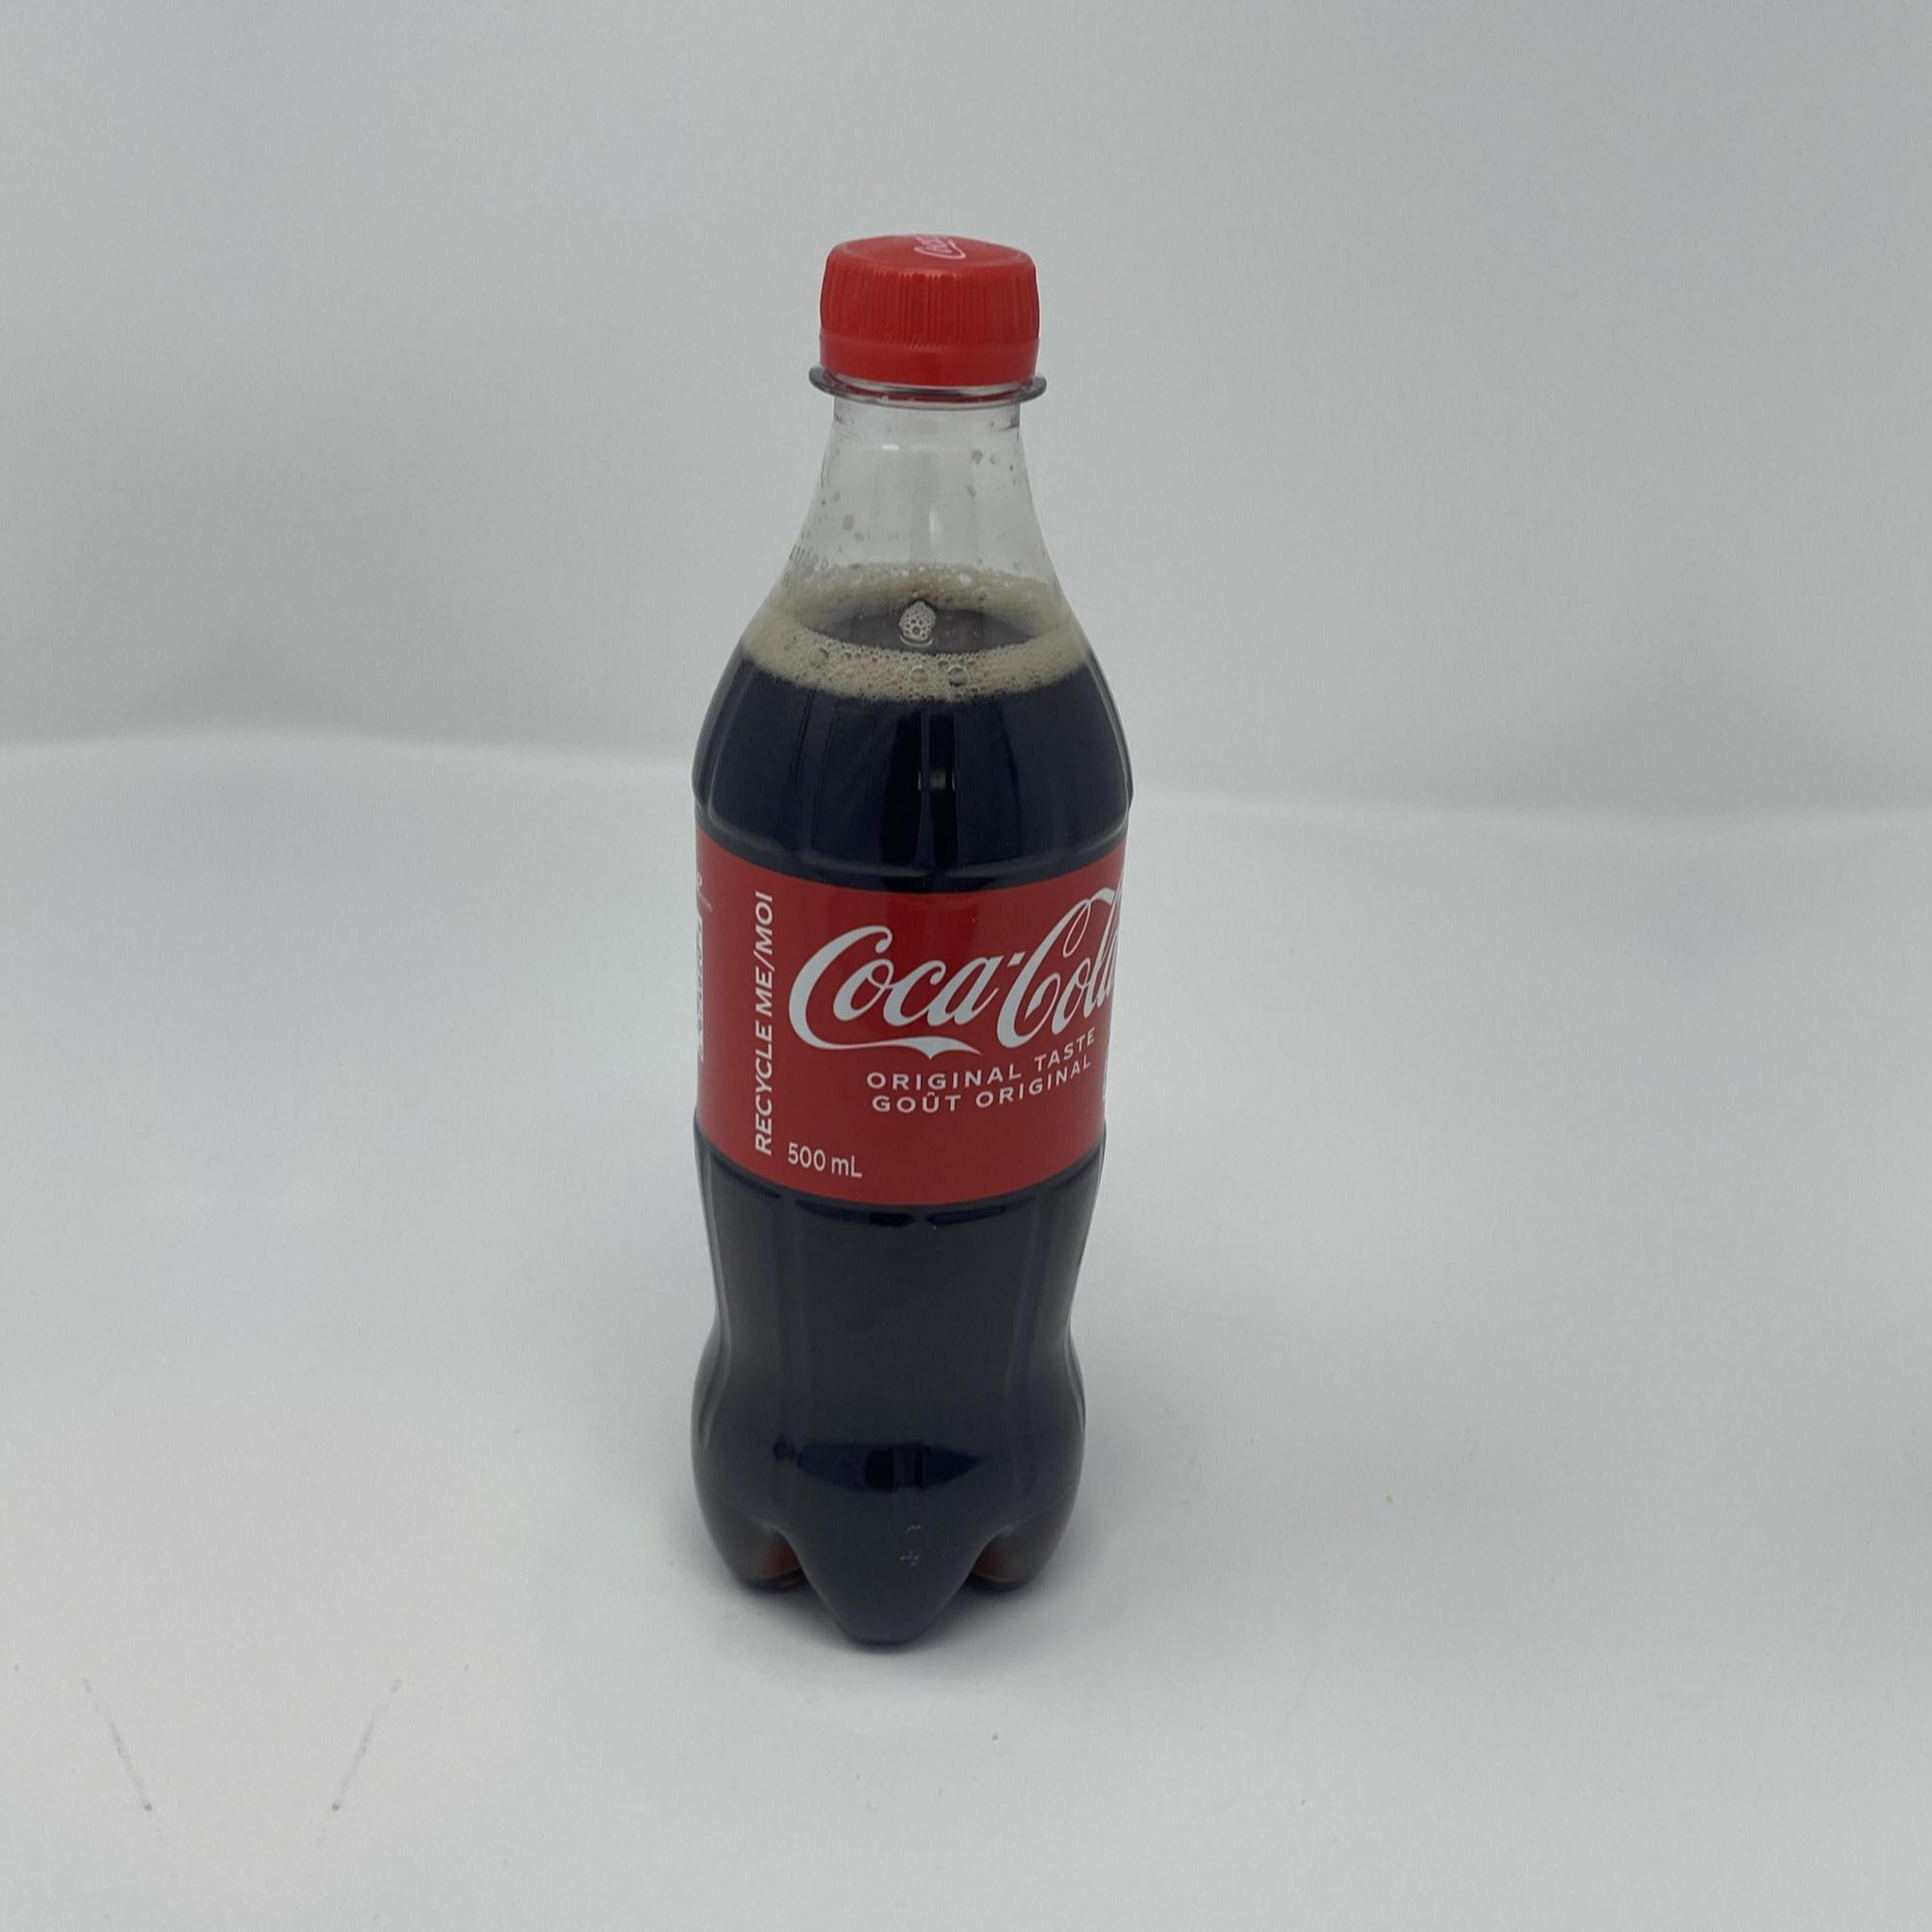PET: (688, 230, 1132, 1645)
cocacola: (688, 230, 1132, 1645)
plastic: (688, 230, 1132, 1645)
soft-drink: (688, 230, 1132, 1645)
